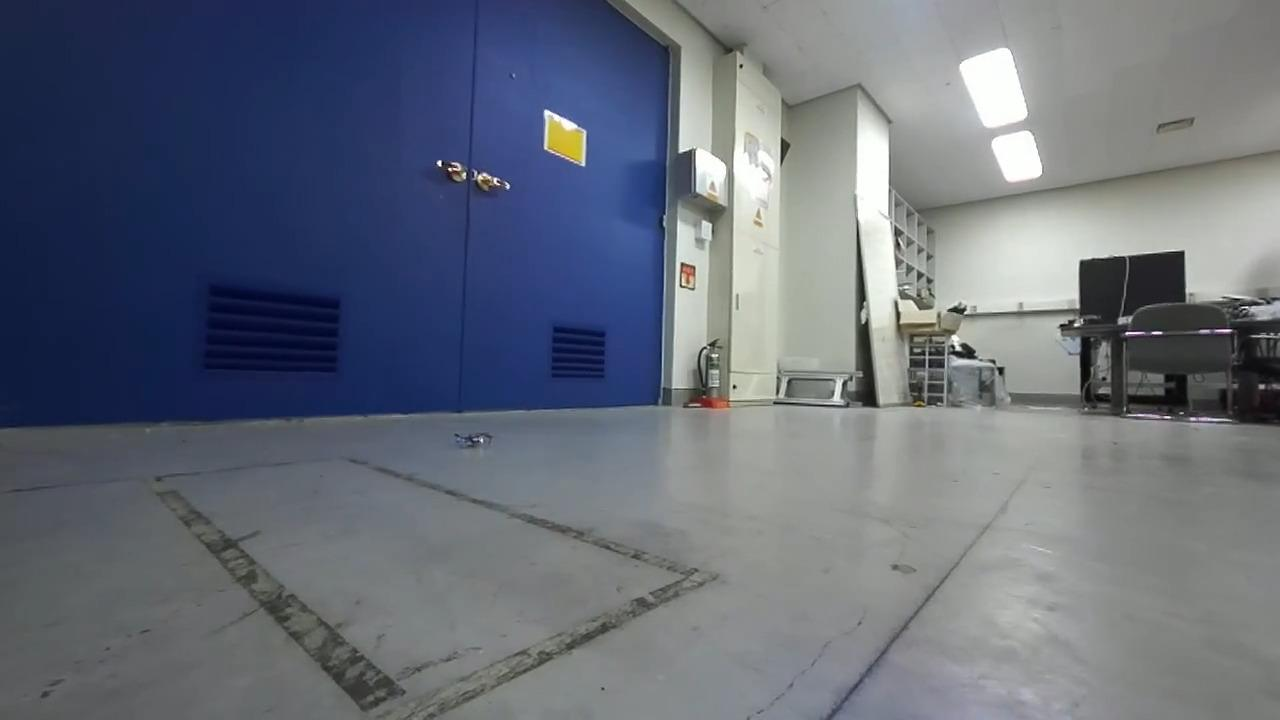crazyflie: (447, 423, 502, 452)
